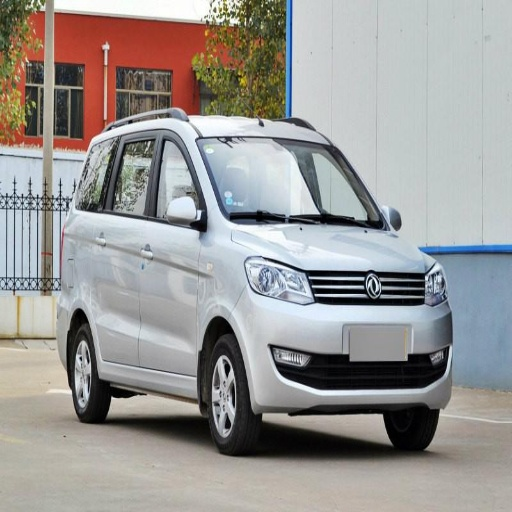front_bumper: (237, 272, 455, 411)
front_right_door: (138, 129, 206, 376)
front_right_light: (245, 257, 315, 304)
hood: (236, 224, 433, 273)
trunk: (51, 279, 82, 338)
